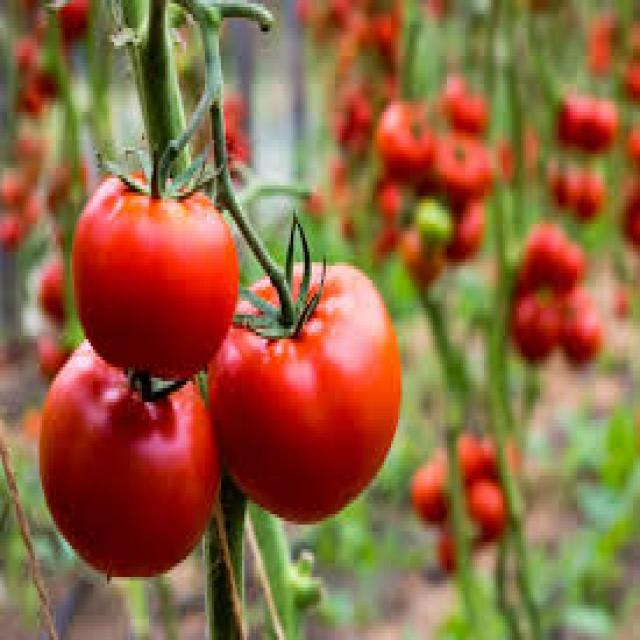Tomato: (208, 250, 404, 522), (43, 338, 243, 598), (68, 140, 241, 385), (528, 10, 640, 242), (378, 97, 495, 287), (404, 422, 513, 586), (501, 217, 605, 373), (282, 0, 409, 126), (0, 0, 100, 139), (307, 78, 379, 205)
